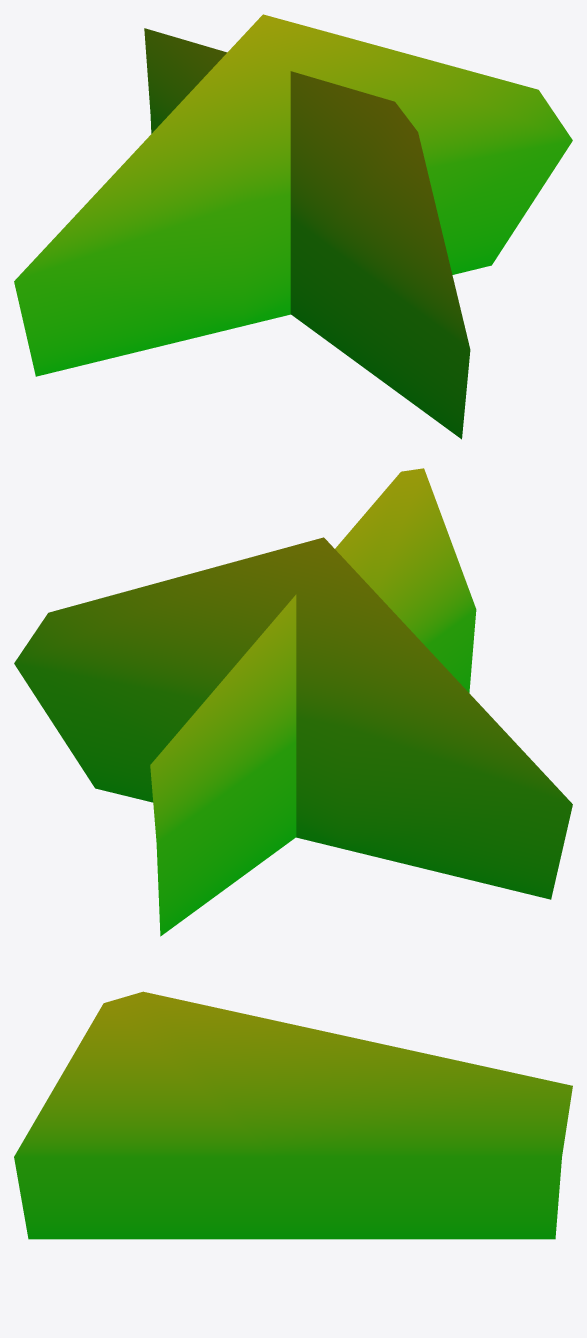
File: Lingonberry_LOD5_Var12_wjhjahlqx.fbx
The picture shows the model from 3 angles, top to bottom: view 1: azimuth 30°, elevation 25°; view 2: azimuth 150°, elevation 25°; view 3: azimuth 270°, elevation 25°; orthographic projection. The views are drawn at different scales.
Visible parts, largest first — view 1: _lrhl_Var12_LOD5; view 2: _lrhl_Var12_LOD5; view 3: _lrhl_Var12_LOD5.
Part boxes in pixels (x1,y1,x2,y2): _lrhl_Var12_LOD5: (14,14,572,439); _lrhl_Var12_LOD5: (14,468,572,936); _lrhl_Var12_LOD5: (14,991,572,1239).
Bounding box in the file's own units: 51.62 × 27.09 × 52.17.
